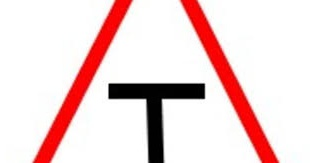Fork_road: (23, 1, 289, 162)
